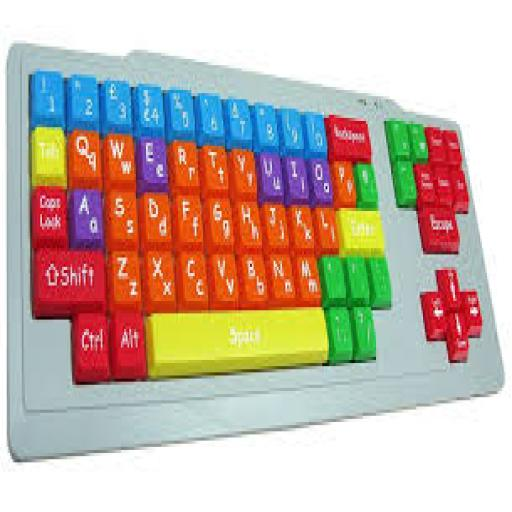KEYBOARD-2: (7, 44, 503, 459)
